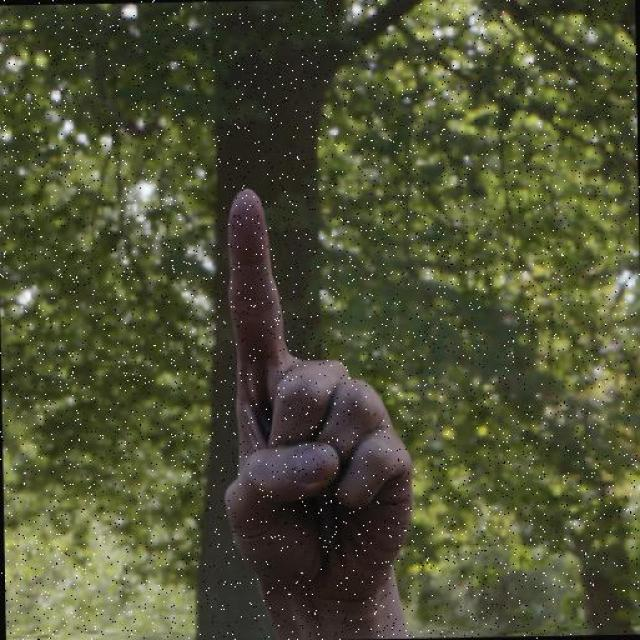Z: (218, 184, 415, 611)
